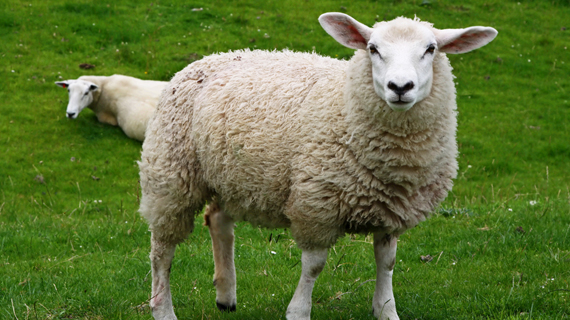koyun: (140, 12, 498, 320), (53, 70, 140, 136)
